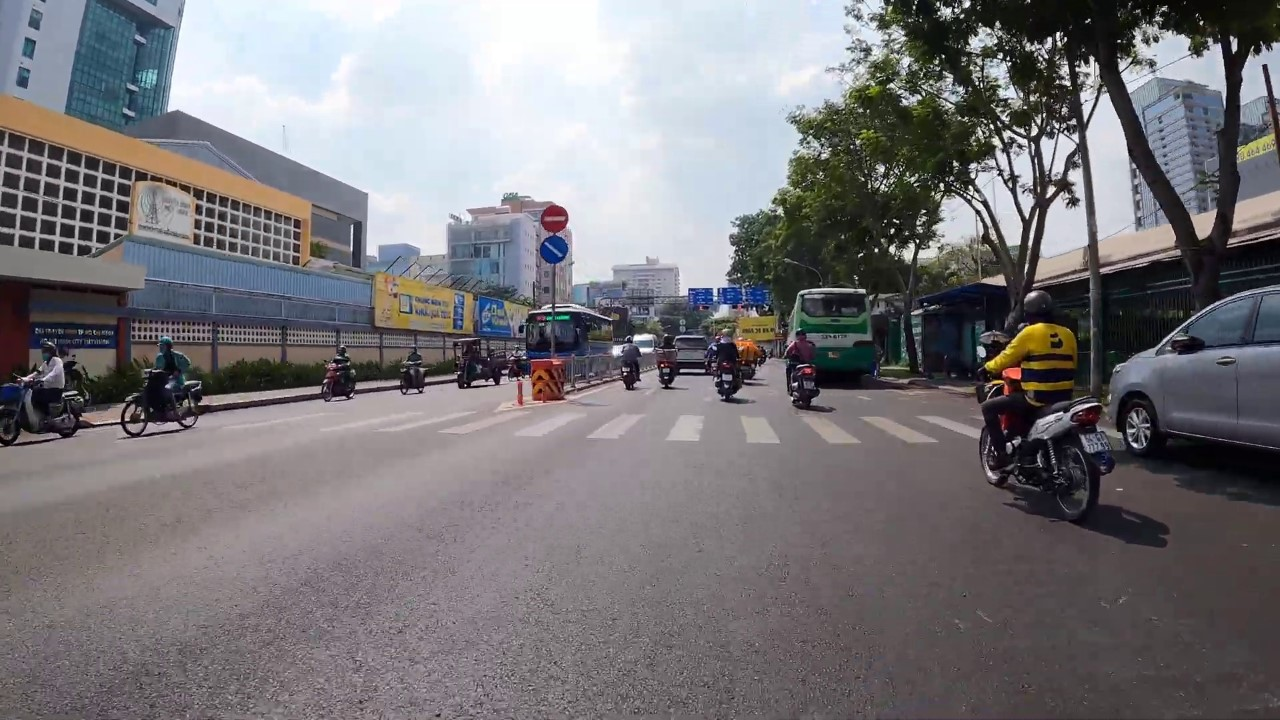cam_nguoc_chieu: (540, 205, 570, 233)
huong_phai_di_vong: (539, 235, 568, 265)
